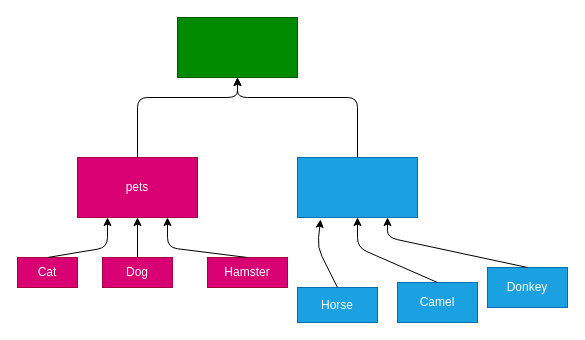
This 585x340 diagram has some shape labels left out. Each missing label, with the centre of its shape:
ANIMALS: pixel 237 47
packAnimals: pixel 357 187
